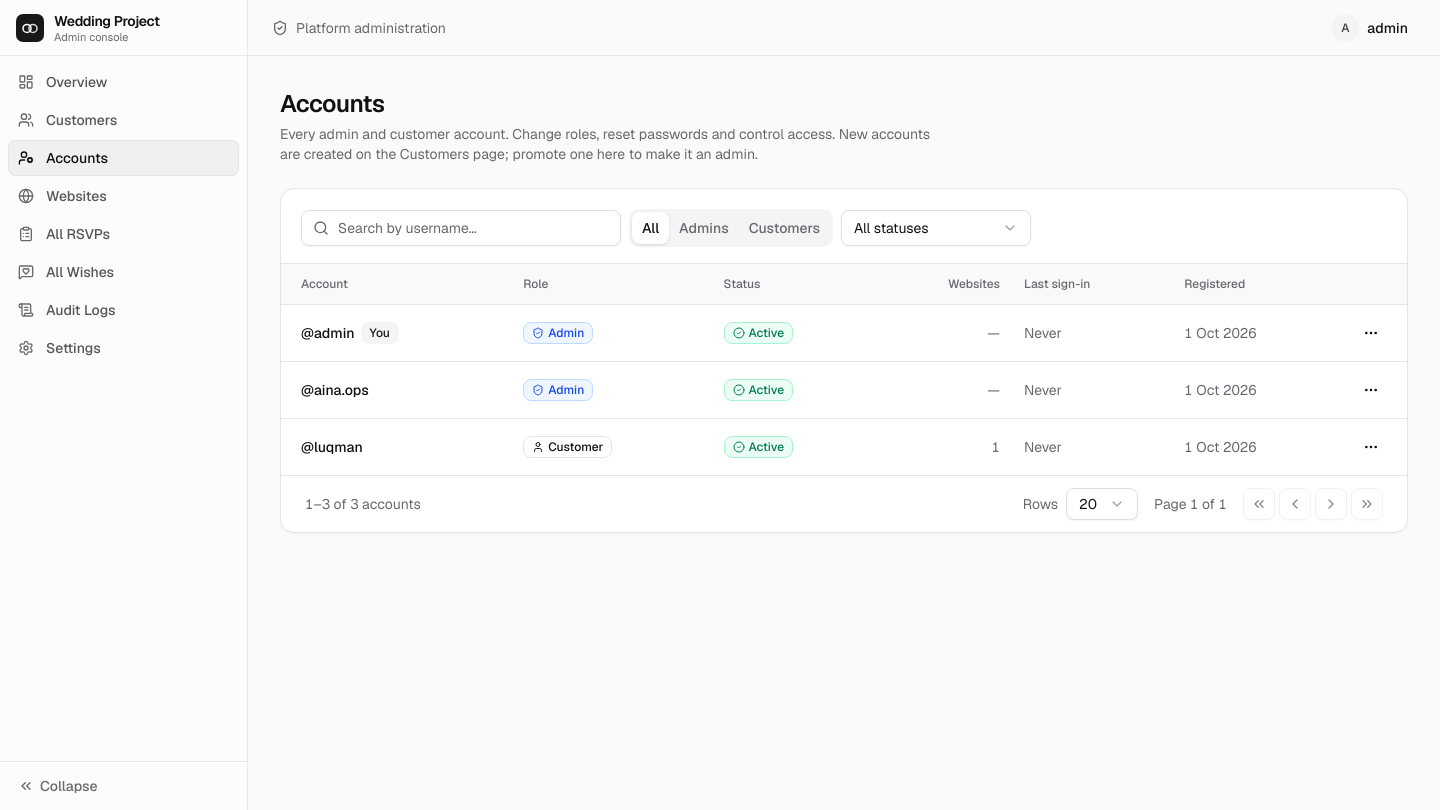
Admin accounts page › shows the backend reason when a role change is refused and keeps the dialog open
Click the button named "Actions for aina.ops" at [1371, 390], box [1355, 374, 1387, 406]
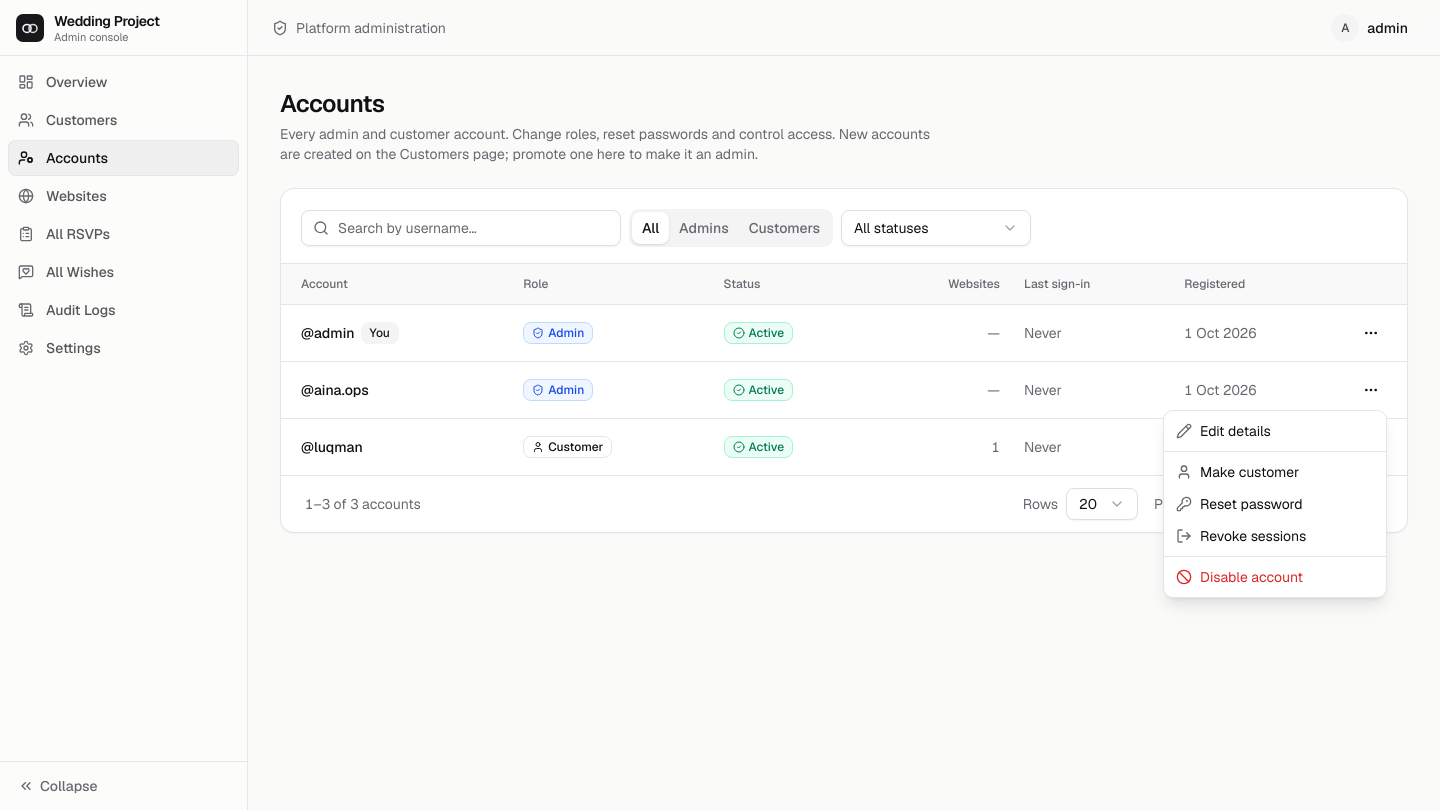
Click the menu item "Make customer" at [1238, 472], box [1176, 463, 1299, 481]
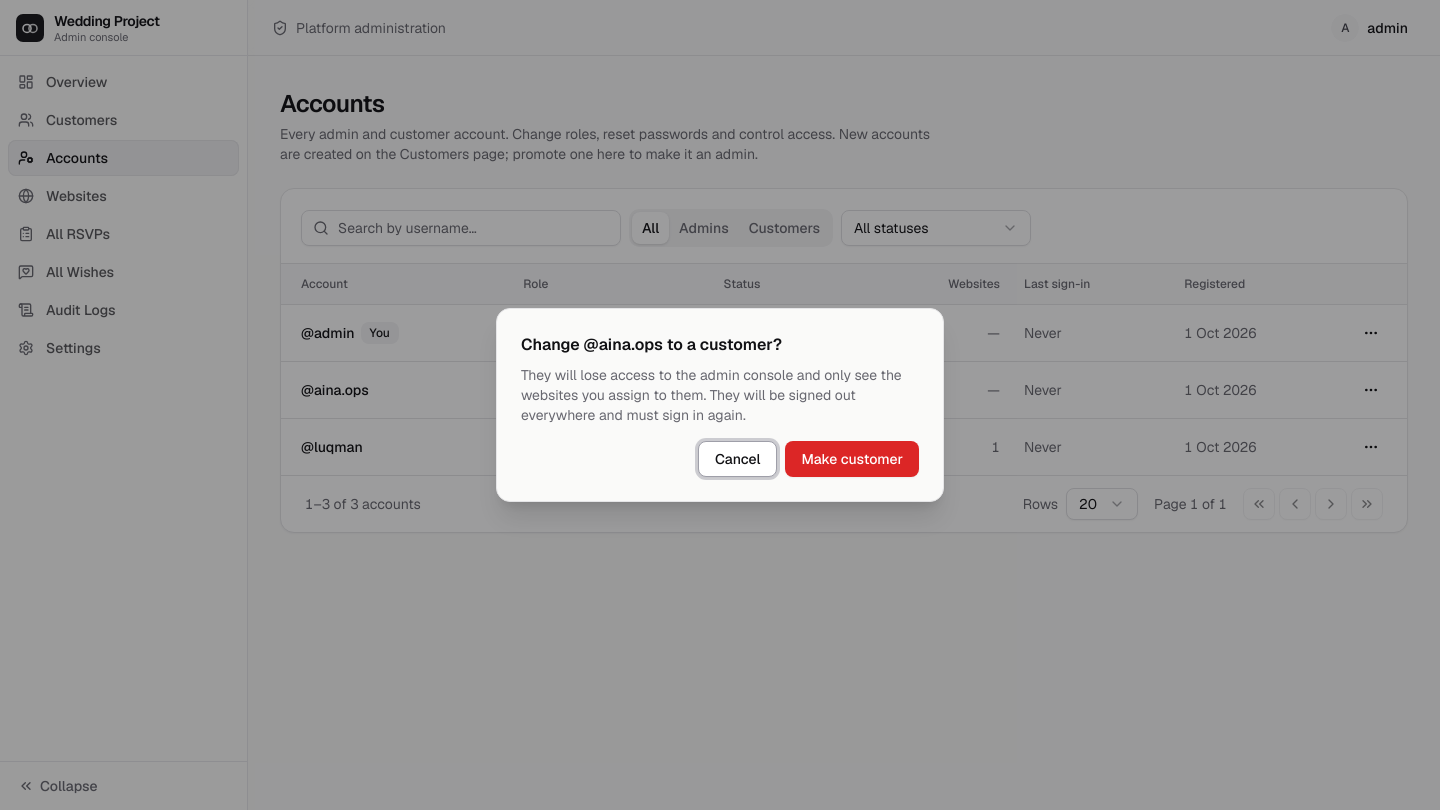
Click the button "Make customer" at [852, 459], box [786, 441, 919, 477]
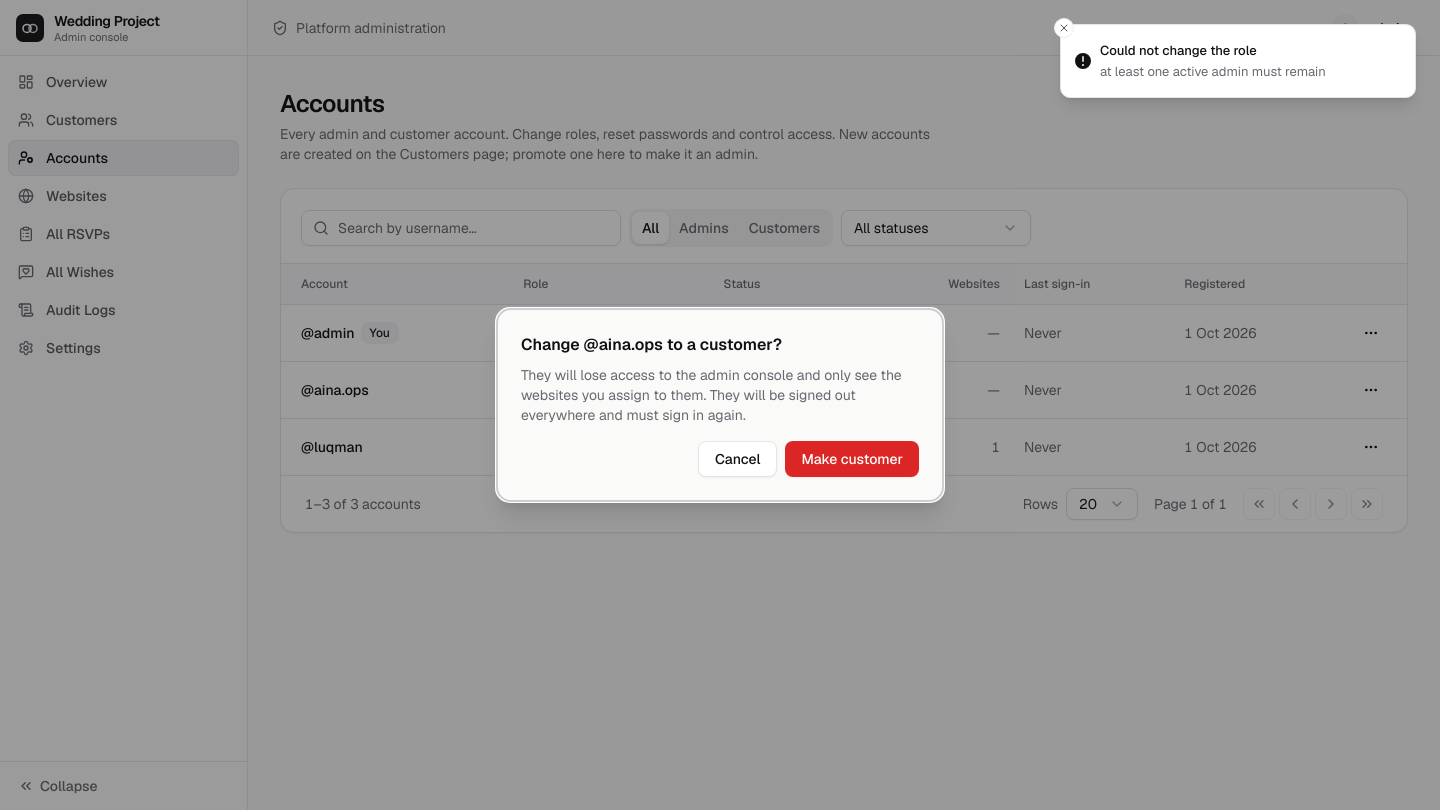
Expected: the dialog is shown, [496, 308, 944, 502]
Expected: the text "at least one active admin must remain" is shown, [1100, 62, 1326, 81]
